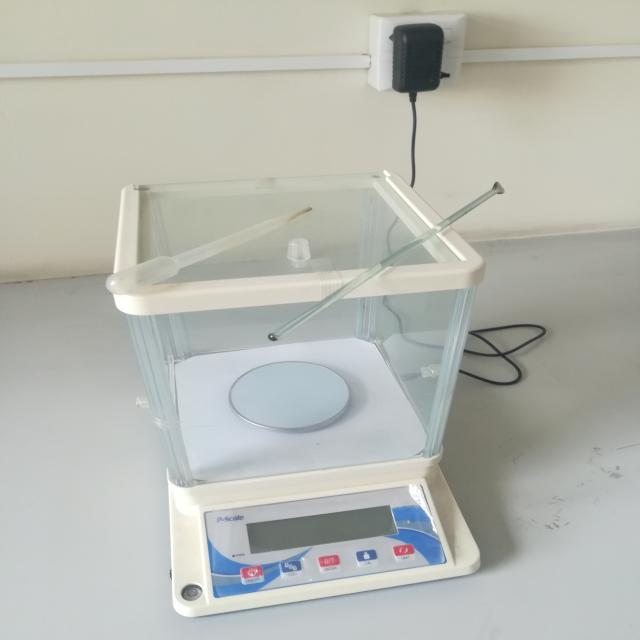Glass_Rod: (268, 170, 549, 368)
Pipette: (86, 196, 332, 300)
